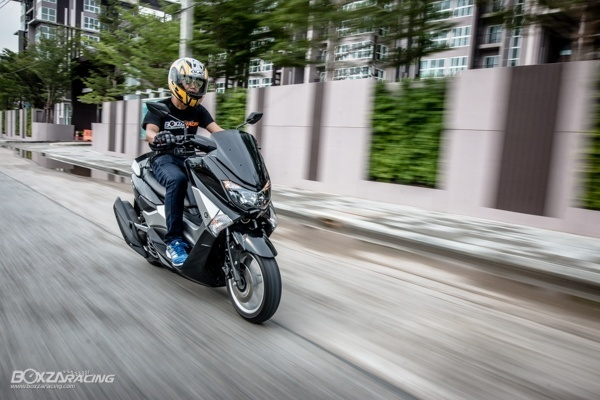helmet: (167, 57, 208, 106)
motorcycle: (112, 103, 284, 325)
